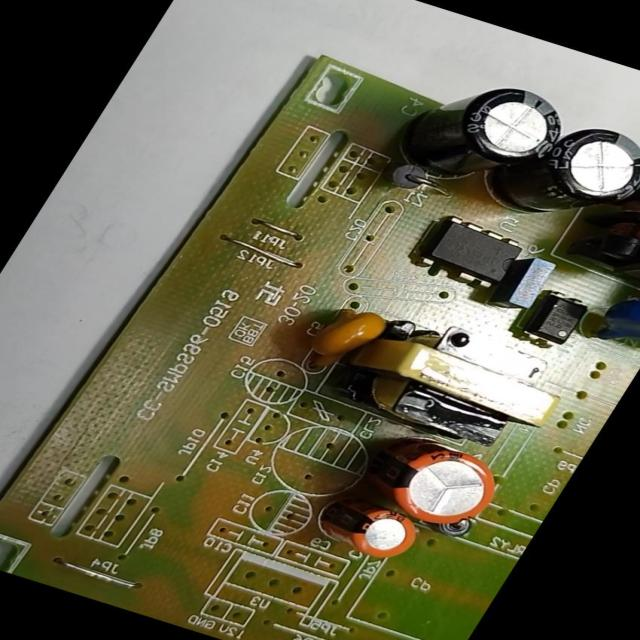Cap1: (352, 431, 512, 534)
Cap2: (312, 493, 428, 562)
Cap3: (497, 110, 639, 242)
Cap4: (390, 66, 578, 201)
MOSFET: (413, 214, 531, 292)
Mov: (582, 284, 639, 355)
Transformer: (326, 306, 586, 464), (595, 157, 639, 293)
